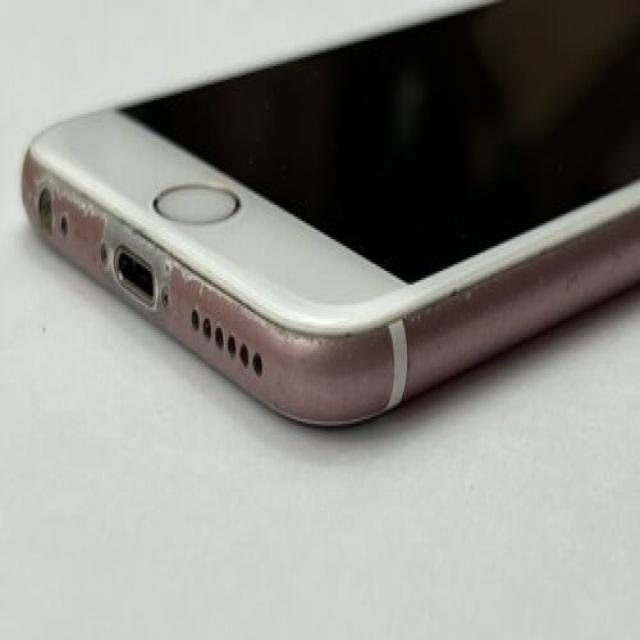Dents: (28, 181, 109, 289), (154, 270, 210, 330), (277, 327, 381, 353), (432, 290, 476, 335), (70, 200, 113, 227)
